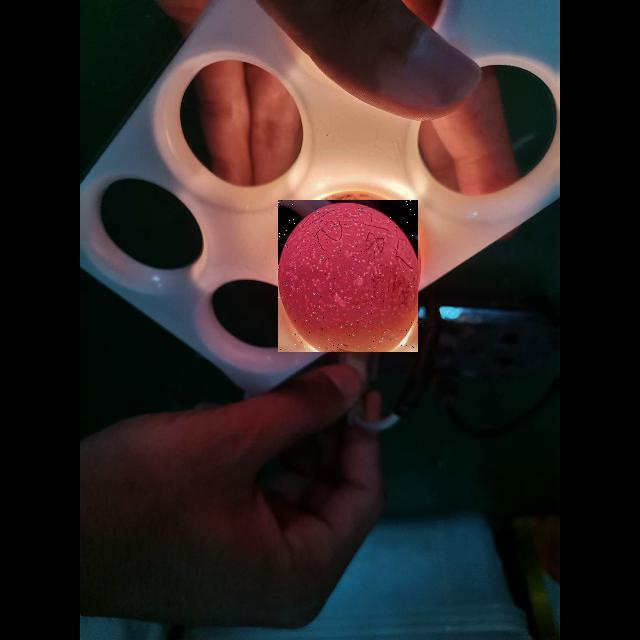Infertile: (278, 200, 418, 352)
